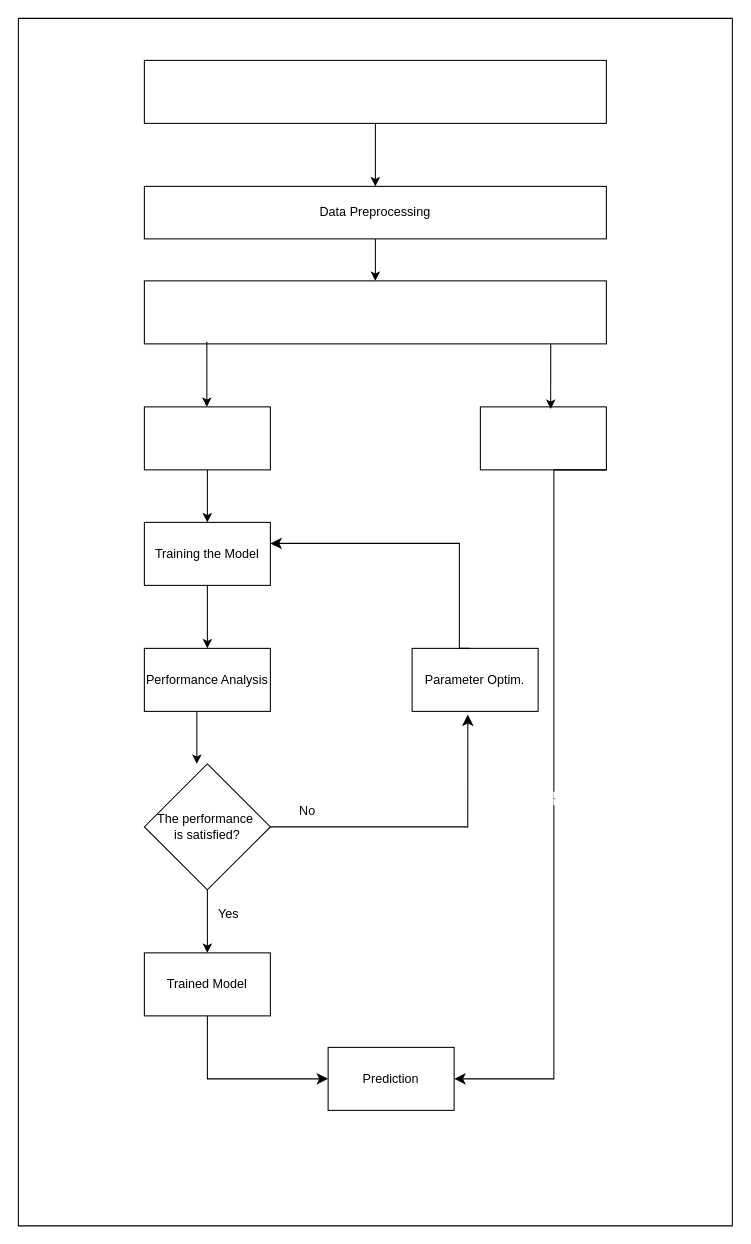
Image size: 751x1244. Some labels were removed from this diagram. The shapes that lost their labels are listed below. From the top down, each one's centre as x and y in pixels, then its label:
[374,91]: Data Collection
[374,312]: Data Partition
[206,438]: Training Data
[542,438]: Testing Data
